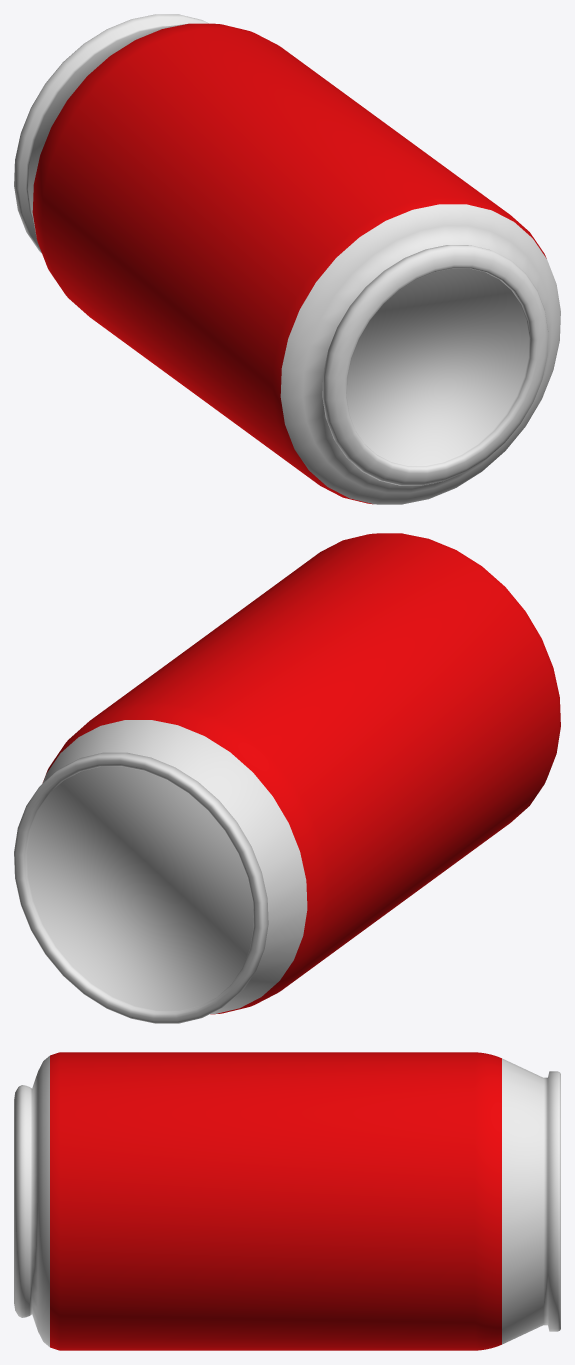
The model's file is Duff Beer.fbx.
3 renders of one model, top to bottom at view 1: azimuth 30°, elevation 25°; view 2: azimuth 150°, elevation 25°; view 3: azimuth 270°, elevation 25°, orthographic. The views are drawn at different scales.
Visible parts, largest first — view 1: Circle.001, Circle; view 2: Circle.001, Circle; view 3: Circle.001, Circle.
Part boxes in pixels (box(x1,y1,x2,y2)): Circle.001: box(32, 23, 546, 504); Circle: box(14, 14, 560, 504); Circle.001: box(42, 533, 560, 1014); Circle: box(14, 720, 307, 1023); Circle.001: box(50, 1052, 501, 1350); Circle: box(14, 1056, 560, 1346).
Bounding box in the file's own units: 454 × 454 × 834.
